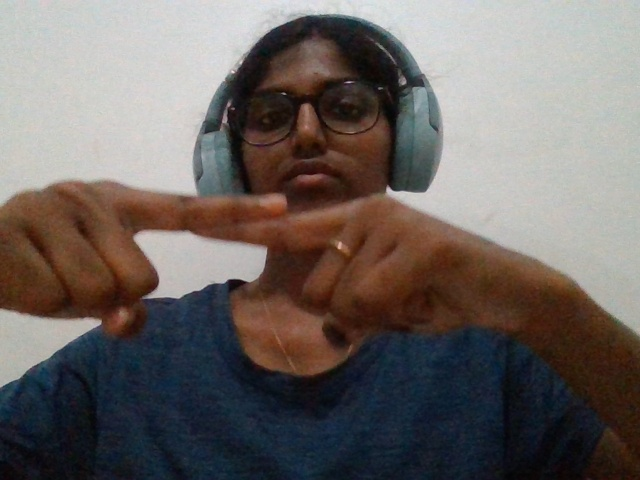Sign: (3, 137, 617, 416)
